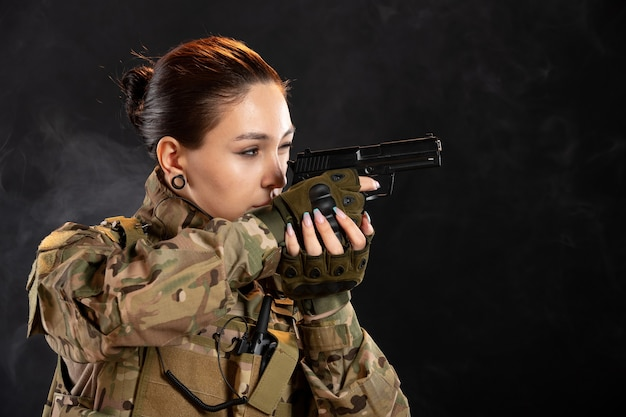gun: (286, 134, 444, 204)
